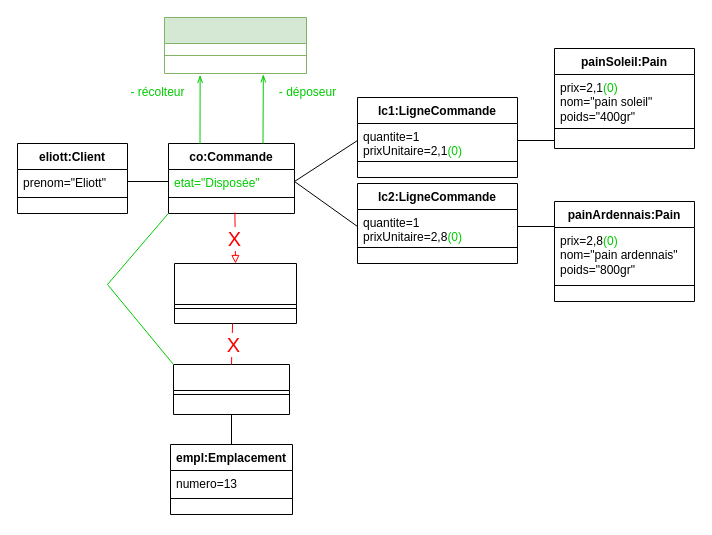
Some shapes in this 712 by 535 pixel diagram are drawn without their labels. Here are the shapes that lost their labels. From the top down, the centre of each, then its label:
the point at 235,45: b:Boulanger
the point at 235,293: <<abstract>> Occupant
the point at 231,389: occ:Occupation
